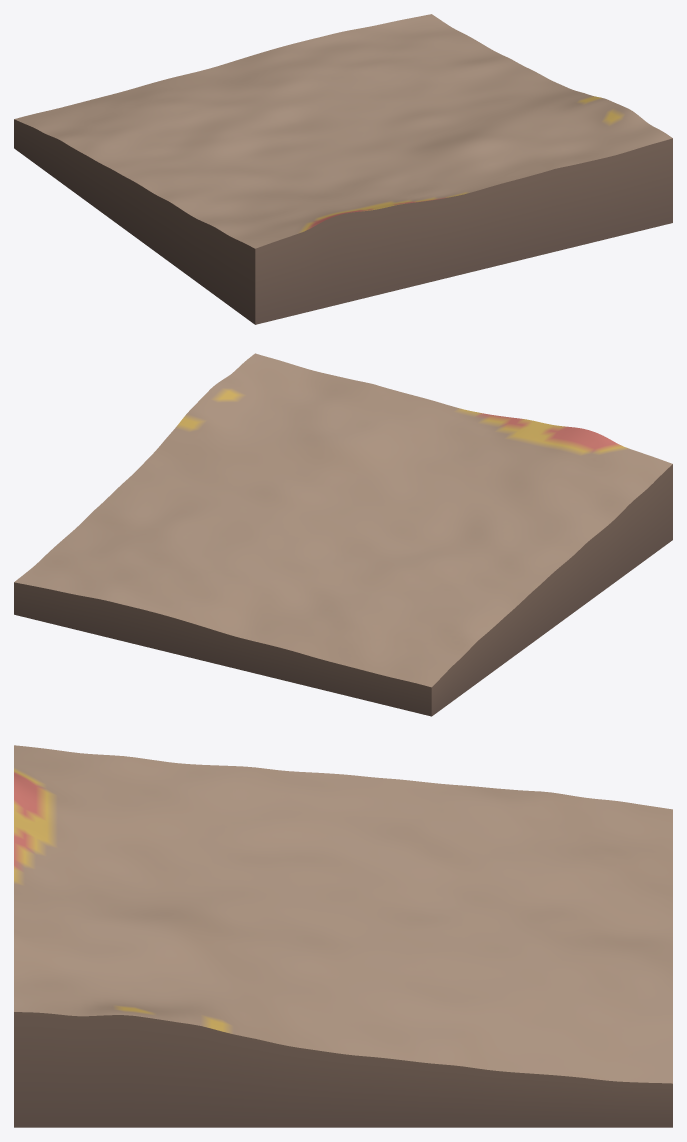
File: wp5-polygons.glb
3 views of the same model, one above another, from view 1: azimuth 30°, elevation 25°; view 2: azimuth 150°, elevation 25°; view 3: azimuth 270°, elevation 25° (orthographic). The views are drawn at different scales.
Visible parts, largest first — view 1: wp5-polygons; view 2: wp5-polygons; view 3: wp5-polygons.
Boxes of the visible parts, bbox=[...] form: wp5-polygons: bbox=[14, 14, 672, 324]; wp5-polygons: bbox=[14, 353, 672, 716]; wp5-polygons: bbox=[14, 745, 672, 1127].
Size of the model in its own units: 60.01 by 12.27 by 60.01.
